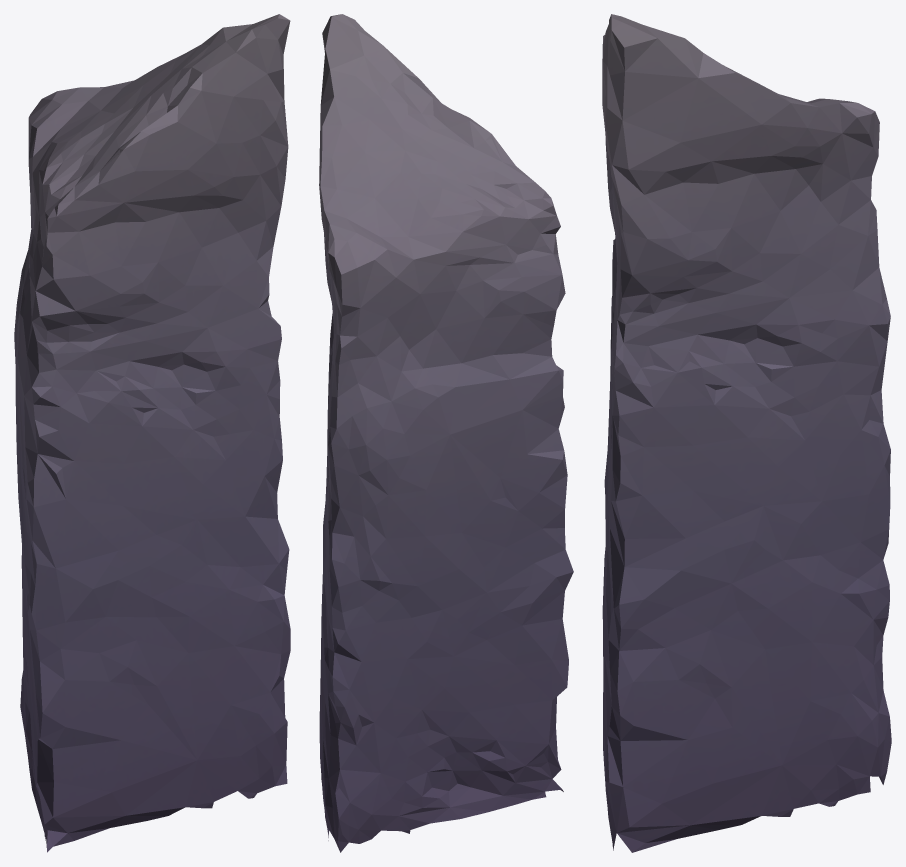
File: tripillar.001.fbx
3 views of the same model, side by side, from view 1: azimuth 30°, elevation 25°; view 2: azimuth 150°, elevation 25°; view 3: azimuth 270°, elevation 25° (orthographic). The views are drawn at different scales.
Visible parts, largest first — view 1: tripillar.001; view 2: tripillar.001; view 3: tripillar.001.
Part boxes in pixels (left/top/right/bottom): tripillar.001: left=14, top=14, right=290, bottom=852; tripillar.001: left=319, top=14, right=573, bottom=852; tripillar.001: left=602, top=14, right=891, bottom=852.
Bounding box in the file's own units: 334 × 940 × 295.
